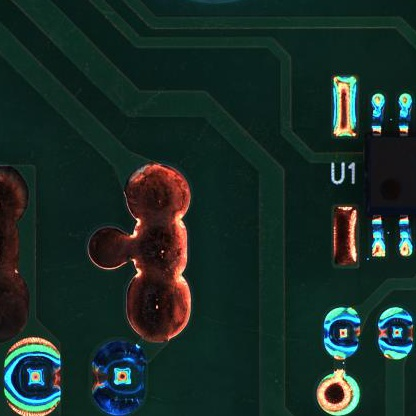spot: (3, 337, 62, 416), (88, 339, 146, 415), (376, 305, 415, 365), (323, 306, 360, 361), (315, 372, 360, 415)
